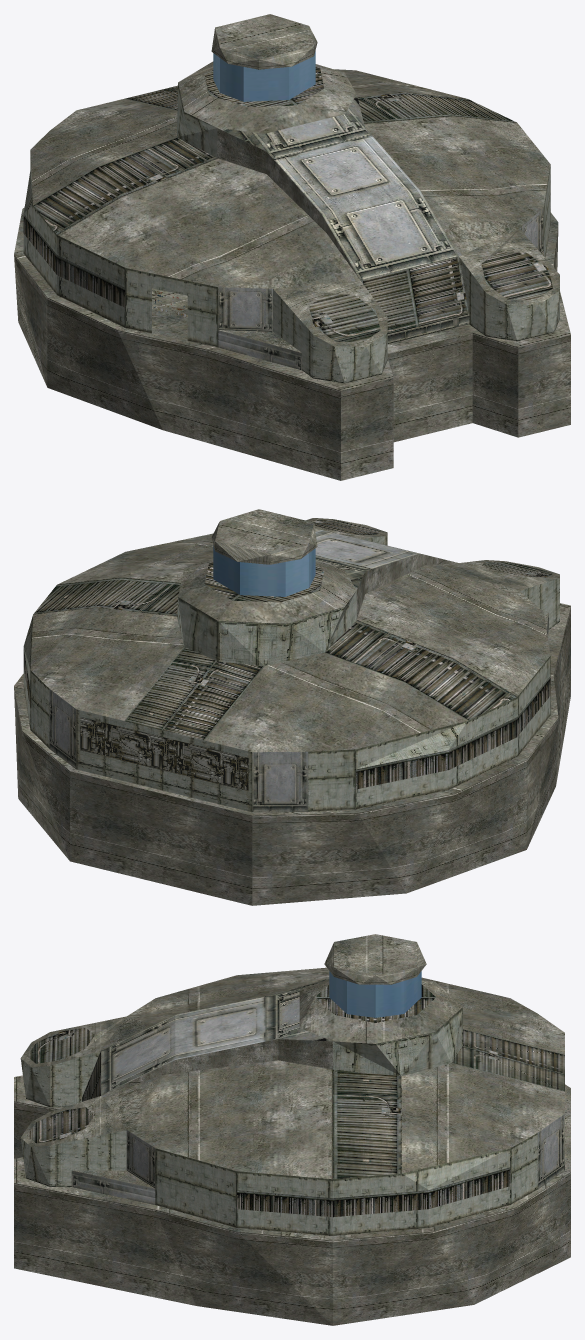
File: ins_all_creature_farm_s01_u0_l1.fbx
3 renders of one model, top to bottom at view 1: azimuth 30°, elevation 25°; view 2: azimuth 150°, elevation 25°; view 3: azimuth 270°, elevation 25°, orthographic. The views are drawn at different scales.
Parts seen in each view (by area): view 1: mesh_node; view 2: mesh_node; view 3: mesh_node.
Boxes of the visible parts, box(x1,y1,x2,y2) form: mesh_node: box(14, 14, 570, 480); mesh_node: box(14, 509, 570, 905); mesh_node: box(14, 934, 570, 1325).
Bounding box in the file's own units: 12.5 × 6.88 × 13.32.
